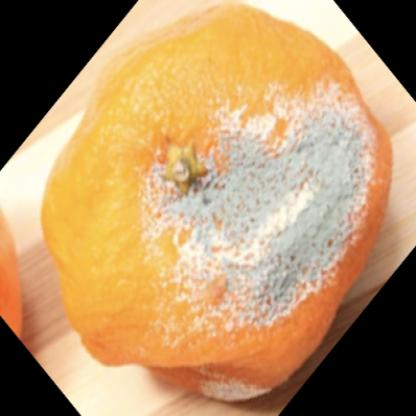rotten: (44, 4, 394, 405)
